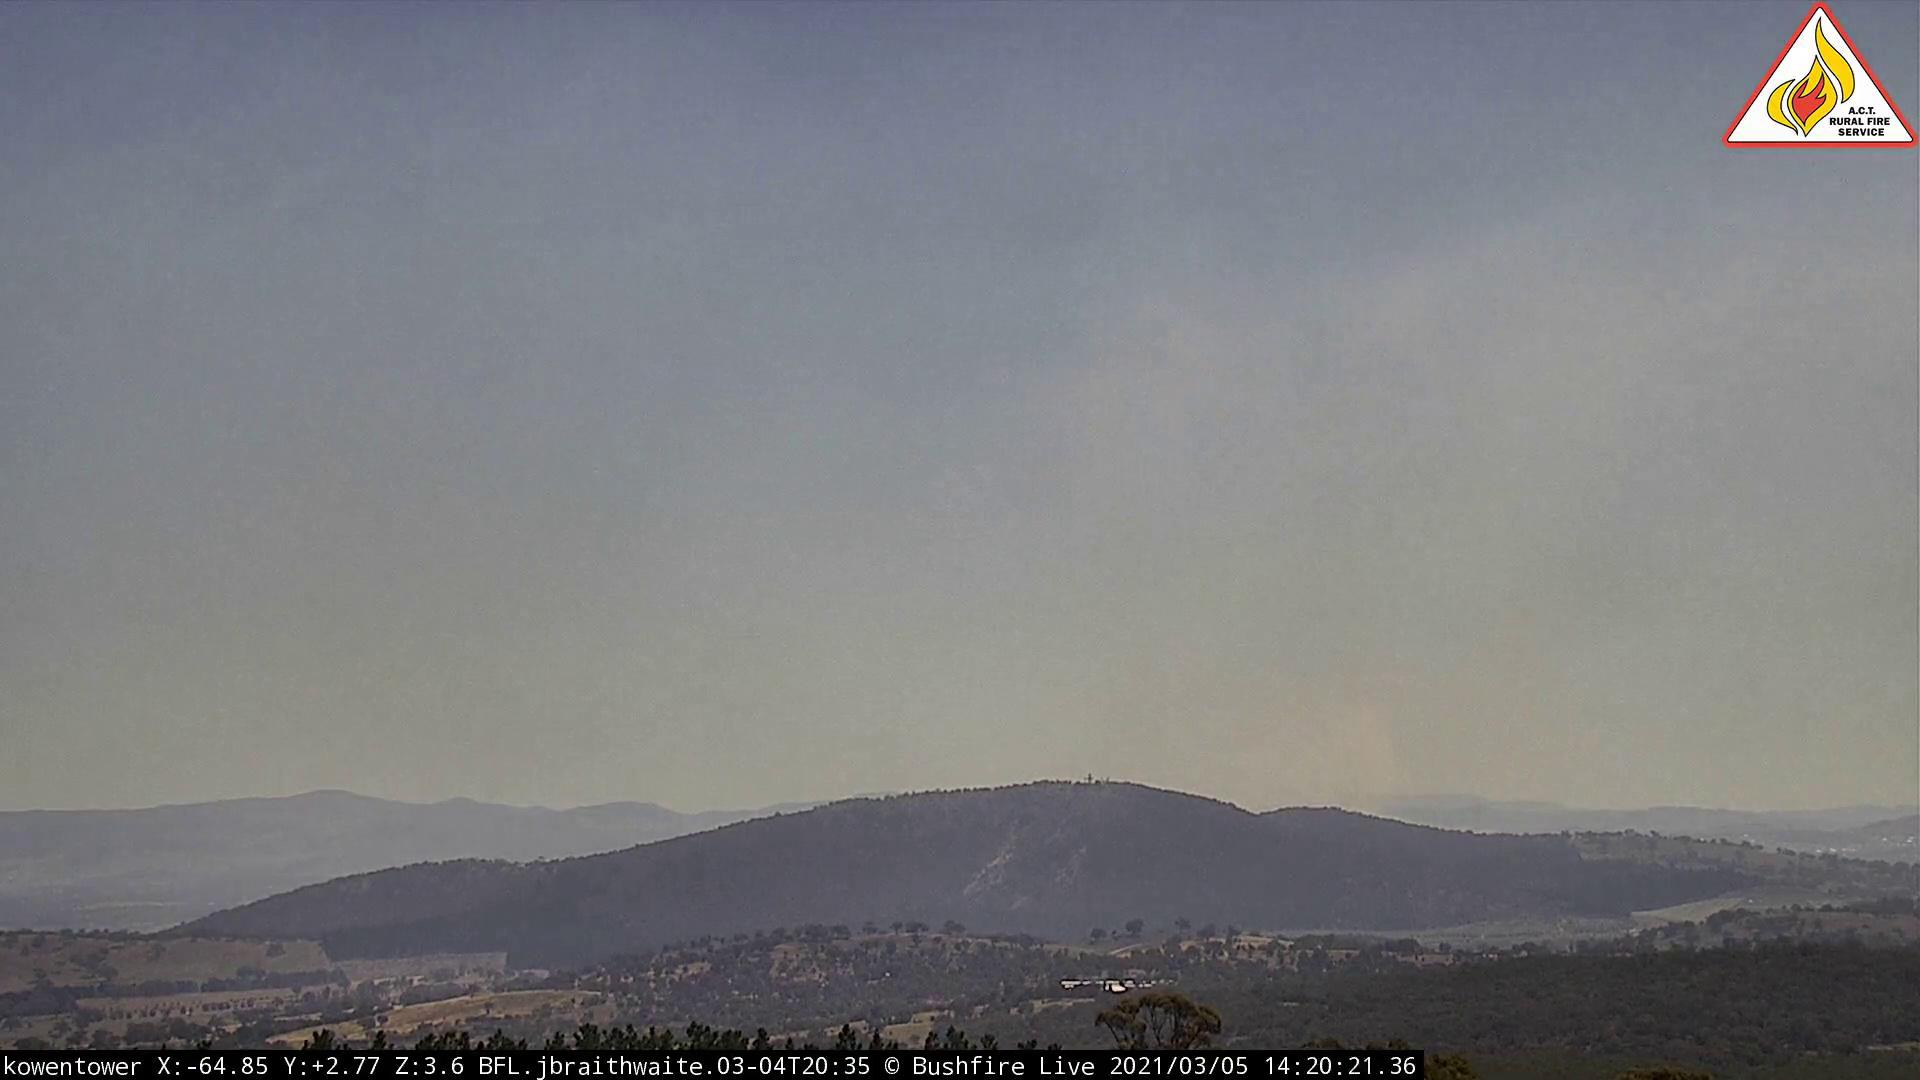Smoke: (1199, 640, 1577, 829)
